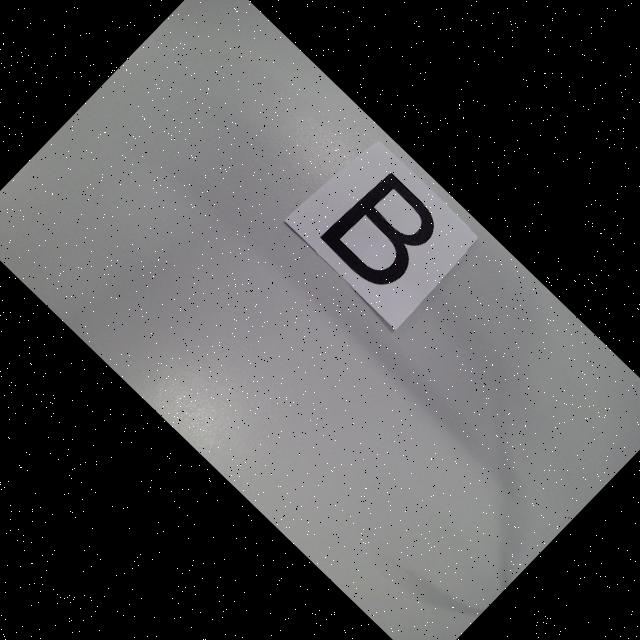FAKE: (320, 168, 450, 298)
